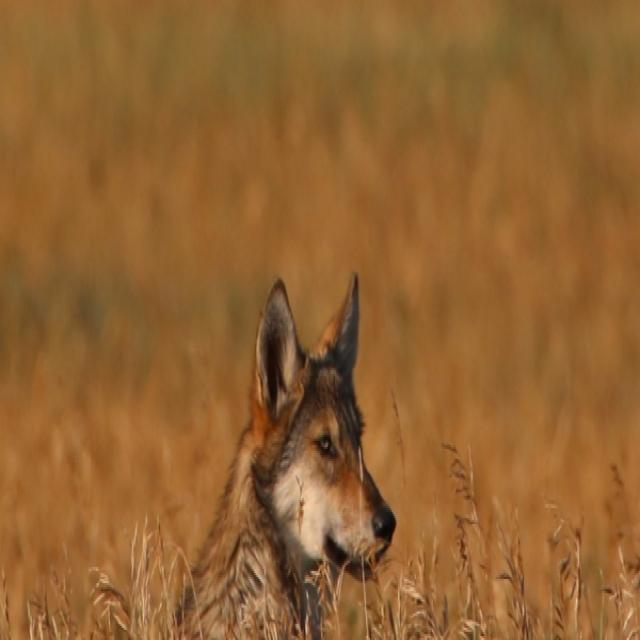wolf: (141, 162, 415, 640)
